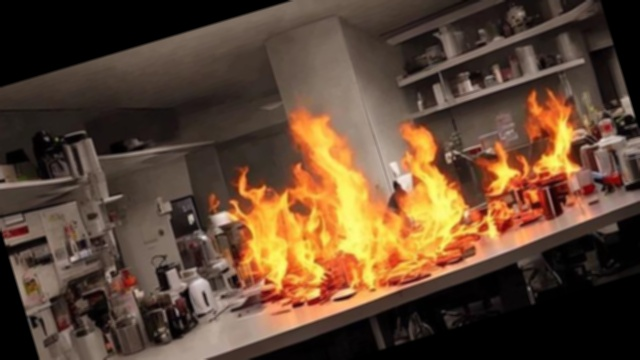fire: (198, 51, 608, 344)
